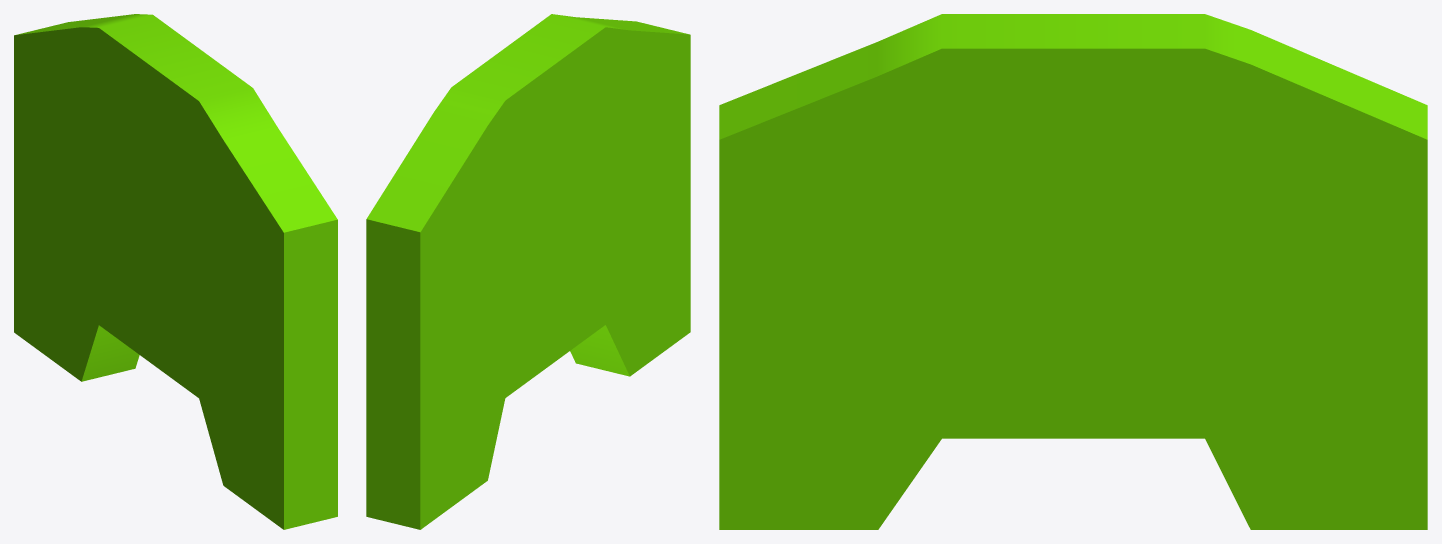
File: Shield.fbx
3 renders of one model, left to right at view 1: azimuth 30°, elevation 25°; view 2: azimuth 150°, elevation 25°; view 3: azimuth 270°, elevation 25°, orthographic. The views are drawn at different scales.
Visible parts, largest first — view 1: pCube1; view 2: pCube1; view 3: pCube1.
Boxes of the visible parts, x1,y1,x2,y2 form: pCube1: (14,14,337,529); pCube1: (366,14,690,529); pCube1: (719,14,1427,529).
Size of the model in its own units: 1 by 6.49 by 8.65.
